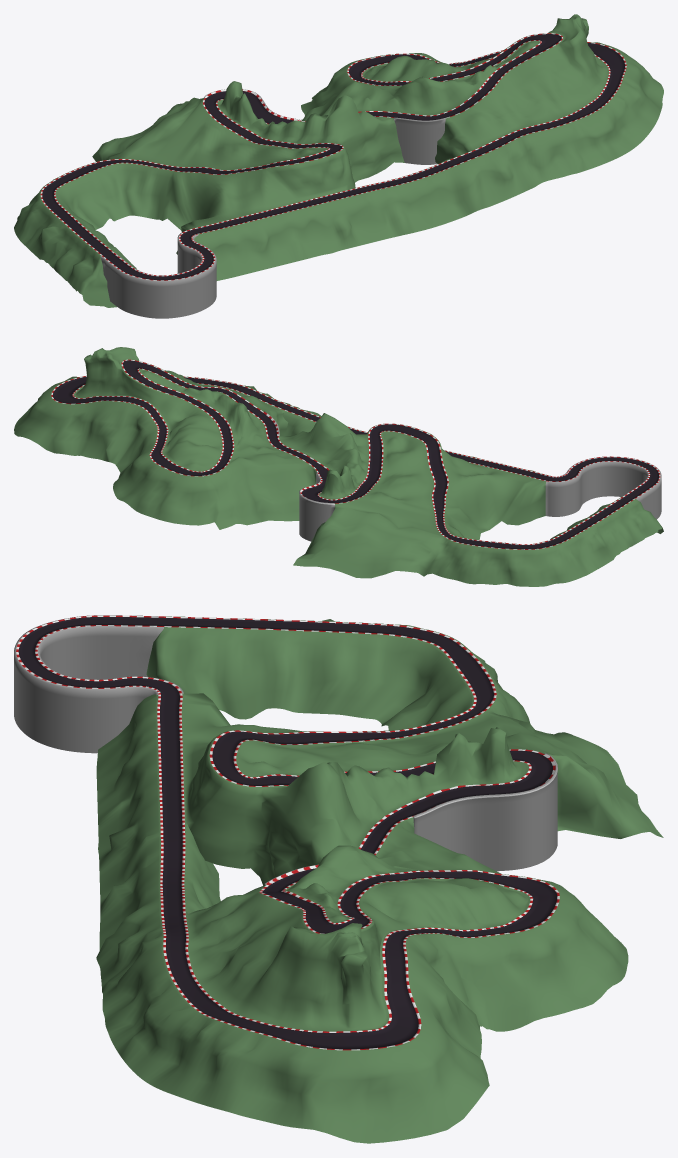
The model's file is RaceTrackBlender4.fbx.
3 views of the same model, one above another, from view 1: azimuth 30°, elevation 25°; view 2: azimuth 150°, elevation 25°; view 3: azimuth 270°, elevation 25° (orthographic). The views are drawn at different scales.
Visible parts, largest first — view 1: select; view 2: select; view 3: select.
Part boxes in pixels (<box>): select: <box>14,14,663,318</box>; select: <box>14,347,663,586</box>; select: <box>14,615,663,1143</box>.
Size of the model in its own units: 15156 by 2814 by 7949.
